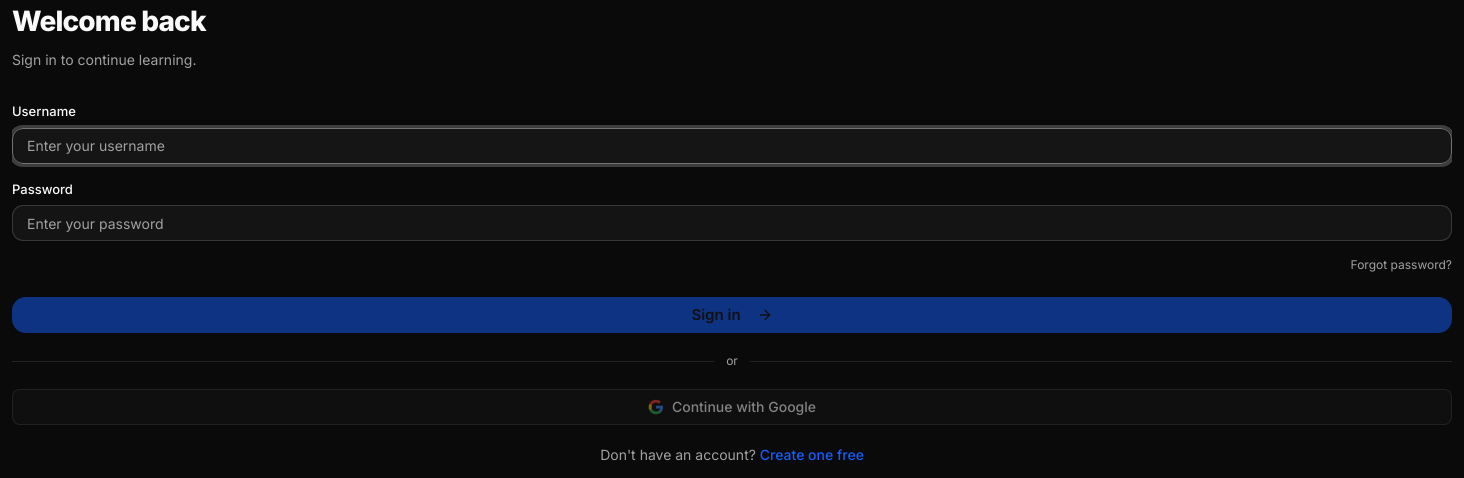
Test: LoginForm › enables submit button when both fields are filled
Type "testuser" into the field labelled "Username" at (732, 146), box [12,128,1452,164]
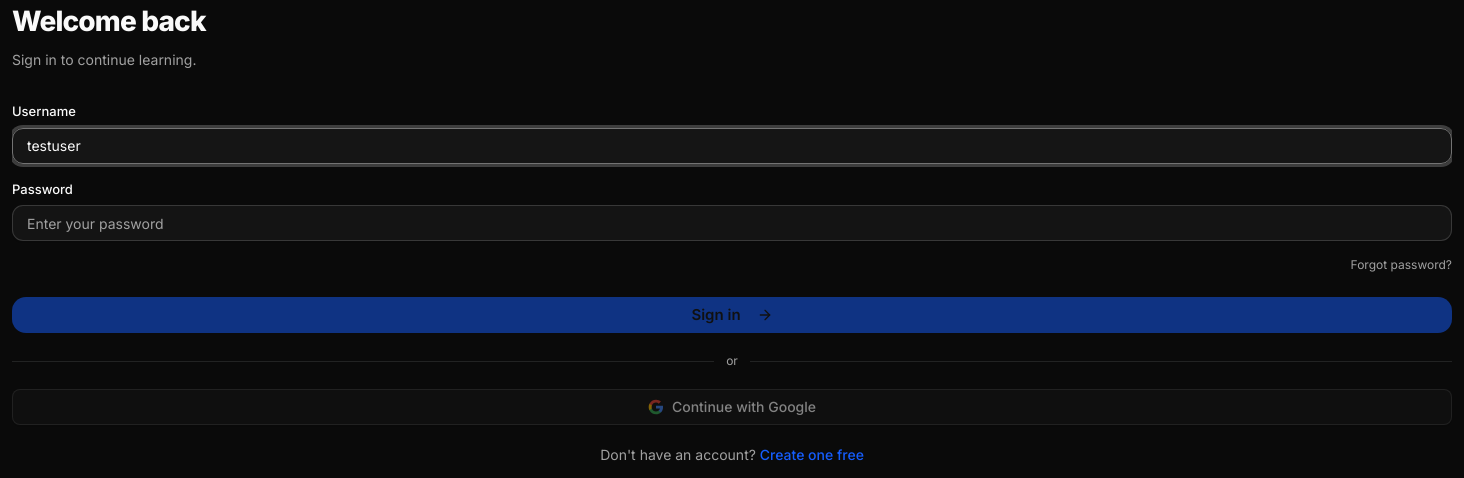
Type "password123" into the password field labelled "Password" at (732, 223), box [12,205,1452,241]
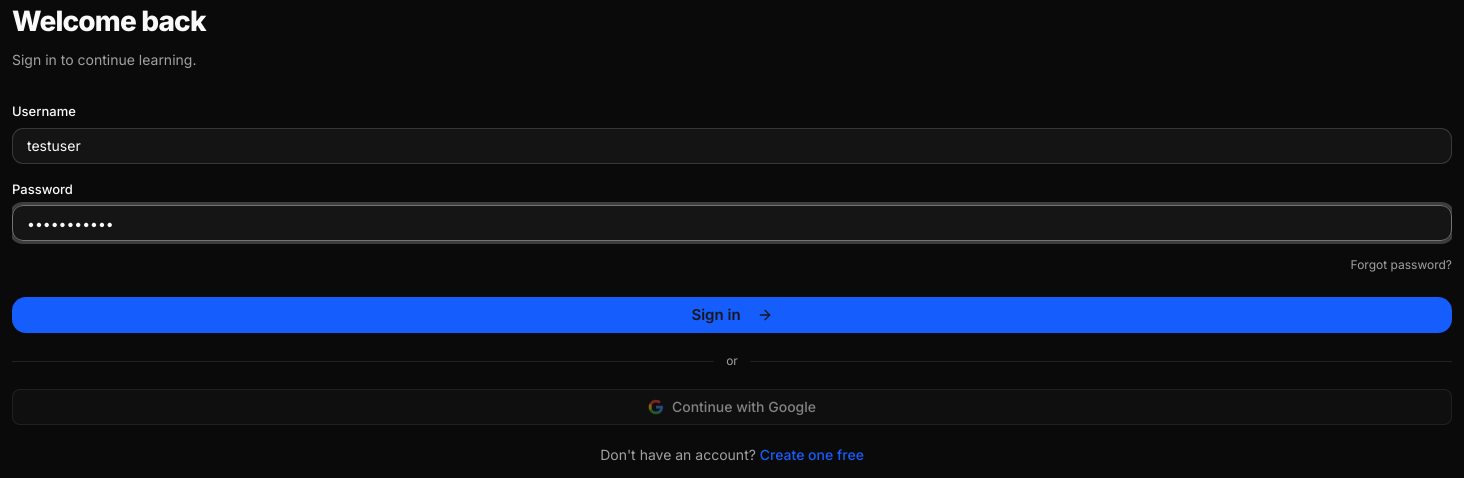
Check: the button "Sign in" is enabled, box [12,297,1452,333]
